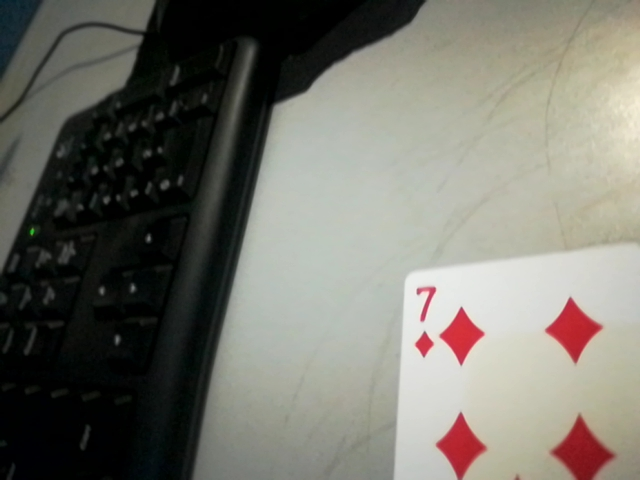fk 7: (401, 276, 448, 363)
